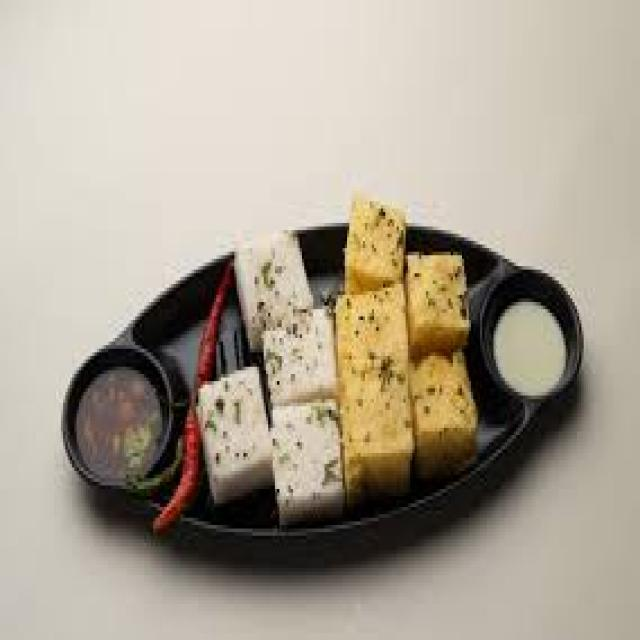DHOKLA: (200, 362, 273, 501), (271, 393, 346, 521), (232, 231, 314, 335), (346, 366, 413, 491), (413, 353, 478, 477), (265, 303, 339, 406), (341, 284, 407, 376), (413, 250, 467, 354), (345, 197, 404, 287)
